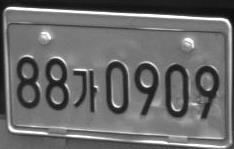0: (104, 60, 129, 114), (164, 64, 189, 117)
8: (45, 56, 69, 111), (16, 56, 41, 108)
9: (193, 64, 220, 119), (134, 61, 159, 116)
가: (73, 69, 97, 113)
